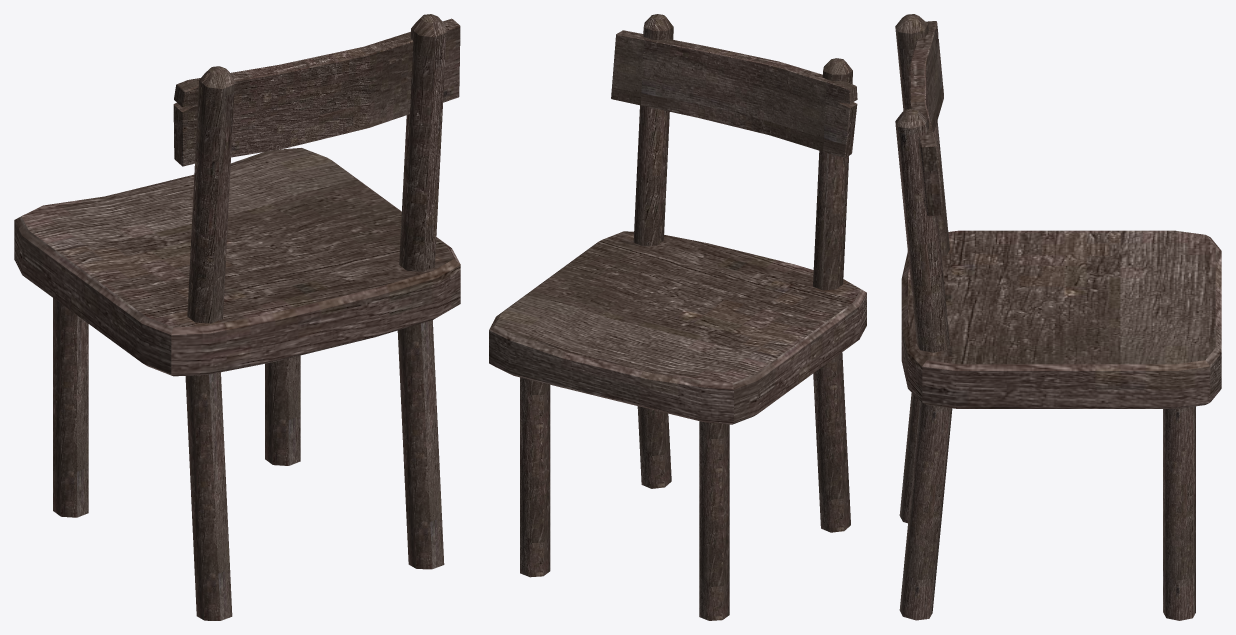
File: chair.FBX
3 renders of one model, left to right at view 1: azimuth 30°, elevation 25°; view 2: azimuth 150°, elevation 25°; view 3: azimuth 270°, elevation 25°, orthographic. The views are drawn at different scales.
Visible parts, largest first — view 1: Box146, Box147, Cylinder052, Cylinder051, Cylinder050, Cylinder049, Cylinder047, Cylinder048; view 2: Box146, Box147, Cylinder047, Cylinder048, Cylinder050, Cylinder051, Cylinder052, Cylinder049; view 3: Box146, Cylinder049, Cylinder051, Cylinder048, Box147, Cylinder052, Cylinder050.
Boxes of the visible parts, left/top/right/bottom form: Box146: left=14, top=148, right=460, bottom=376; Box147: left=173, top=18, right=460, bottom=166; Cylinder052: left=187, top=66, right=234, bottom=323; Cylinder051: left=399, top=14, right=446, bottom=271; Cylinder050: left=185, top=372, right=232, bottom=620; Cylinder049: left=397, top=320, right=444, bottom=569; Cylinder047: left=53, top=298, right=88, bottom=517; Cylinder048: left=265, top=355, right=300, bottom=465; Box146: left=489, top=231, right=866, bottom=424; Box147: left=611, top=30, right=857, bottom=157; Cylinder047: left=699, top=421, right=729, bottom=620; Cylinder048: left=520, top=377, right=550, bottom=577; Cylinder050: left=813, top=352, right=850, bottom=532; Cylinder051: left=633, top=14, right=673, bottom=246; Cylinder052: left=813, top=58, right=852, bottom=290; Cylinder049: left=637, top=406, right=671, bottom=488; Box146: left=901, top=230, right=1221, bottom=408; Cylinder049: left=899, top=401, right=952, bottom=620; Cylinder051: left=895, top=108, right=949, bottom=352; Cylinder048: left=1163, top=406, right=1195, bottom=620; Box147: left=909, top=21, right=943, bottom=216; Cylinder052: left=895, top=14, right=949, bottom=256; Cylinder050: left=899, top=393, right=919, bottom=523.
Bounding box in the file's own units: 5.8 × 9.86 × 5.77.
